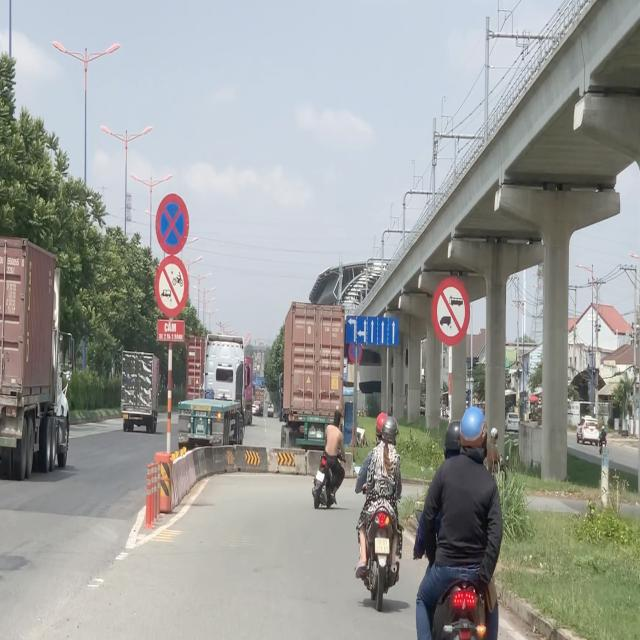Cam con lai: (431, 278, 471, 348), (156, 254, 190, 316)
Cam dung va do: (154, 193, 190, 256), (348, 339, 362, 364)
